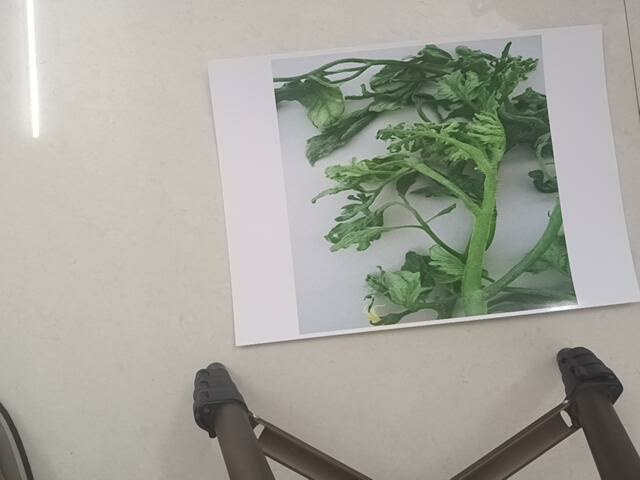Tomamto_Mosaic_virus: (276, 59, 580, 315)
